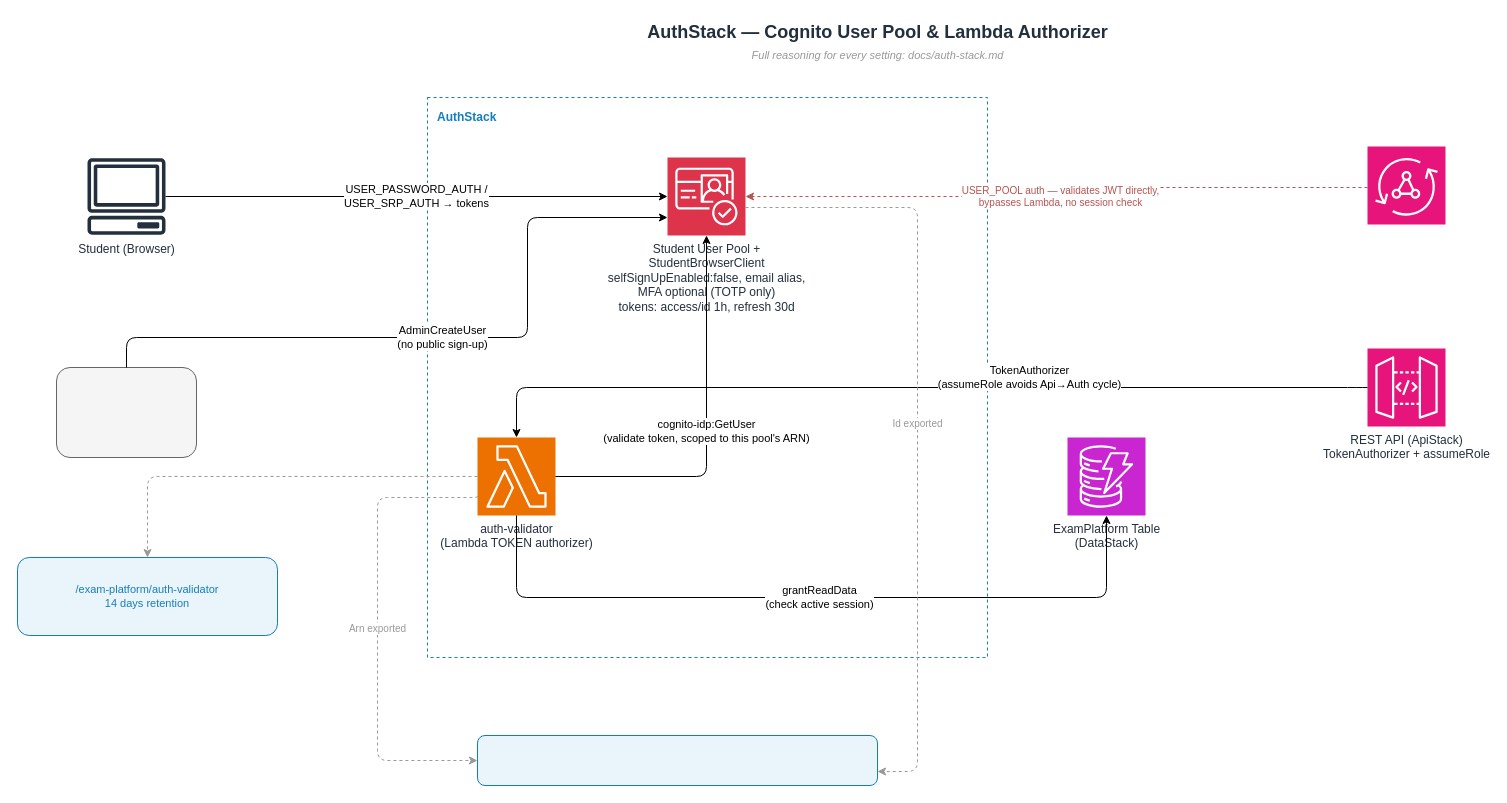
Image size: 1507x803. Some labels were removed from this diagram. The shapes that lost their labels are listed below. From the top down, each one's centre as x and y in pixels, then its label:
(x=1406, y=185): GraphQL API (ApiStack) USER_POOL auth mode
(x=126, y=412): Admin / Ops (AdminCreateUser — no public sign-up)
(x=677, y=760): CfnOutputs: UserPoolId, UserPoolClientId, AuthorizerArn
